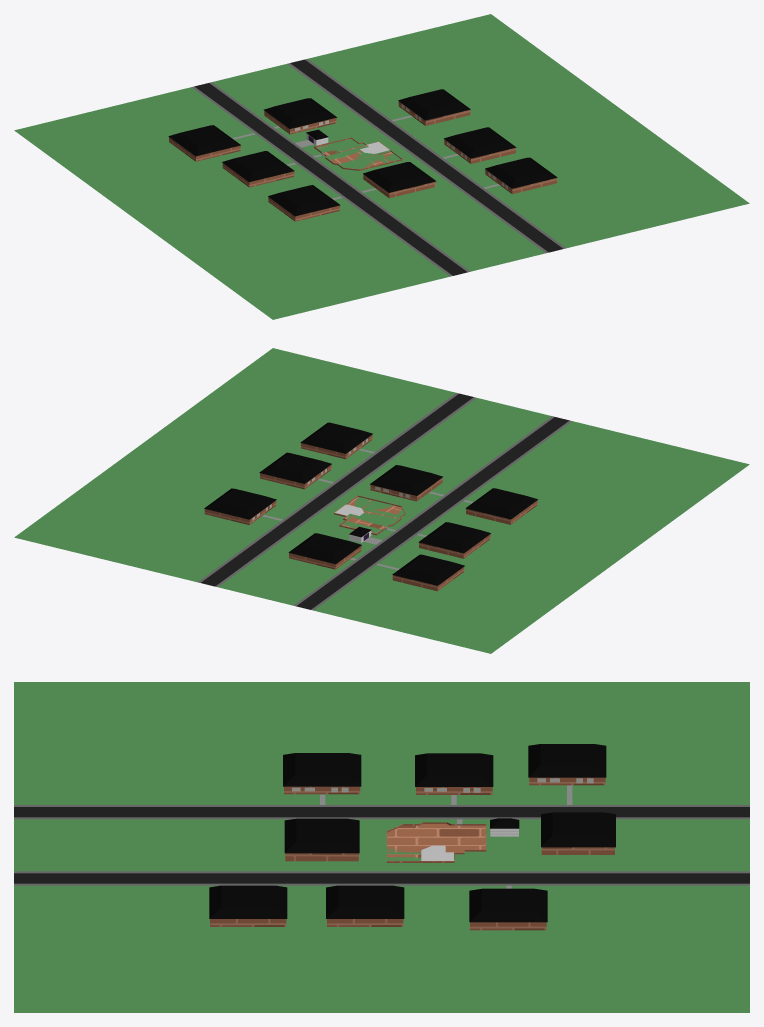
Rendered from HouseOutside.fbx.
The picture shows the model from 3 angles, top to bottom: view 1: azimuth 30°, elevation 25°; view 2: azimuth 150°, elevation 25°; view 3: azimuth 270°, elevation 25°; orthographic projection. The views are drawn at different scales.
Visible parts, largest first — view 1: HouseOutside; view 2: HouseOutside; view 3: HouseOutside.
Boxes of the visible parts, x1=… form: HouseOutside: x1=14, y1=14, x2=749, y2=319; HouseOutside: x1=14, y1=348, x2=749, y2=653; HouseOutside: x1=14, y1=682, x2=749, y2=1012.
Size of the model in its own units: 290722 by 6196 by 273331.
